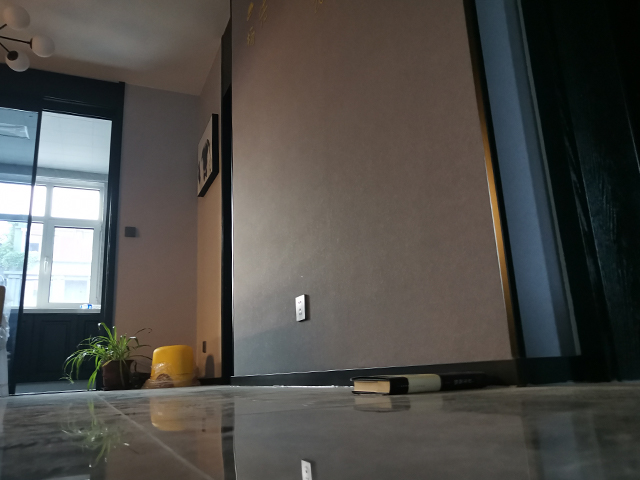book: (349, 370, 495, 397)
cabinet: (11, 305, 100, 395)
stool: (142, 343, 200, 389)
